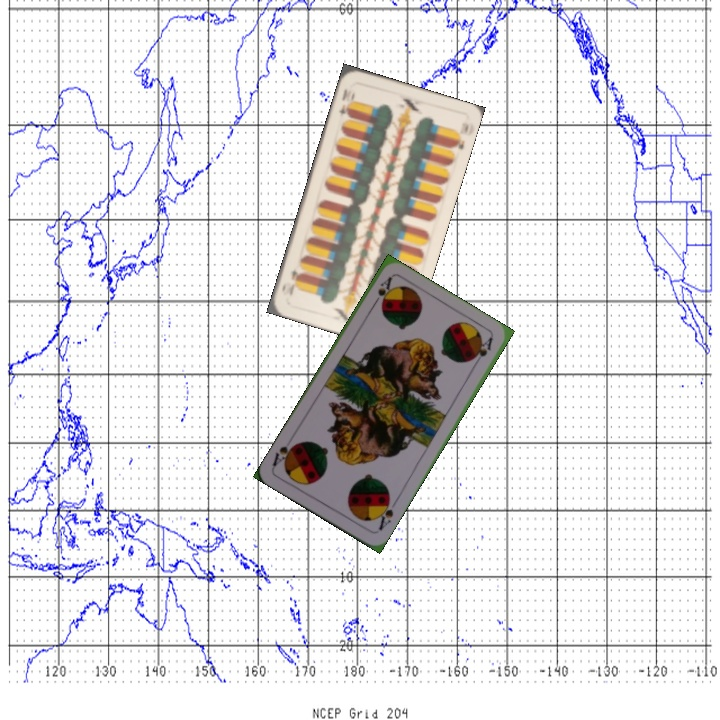E10: (335, 85, 351, 120)
SA: (368, 272, 395, 310), (373, 494, 399, 533)
